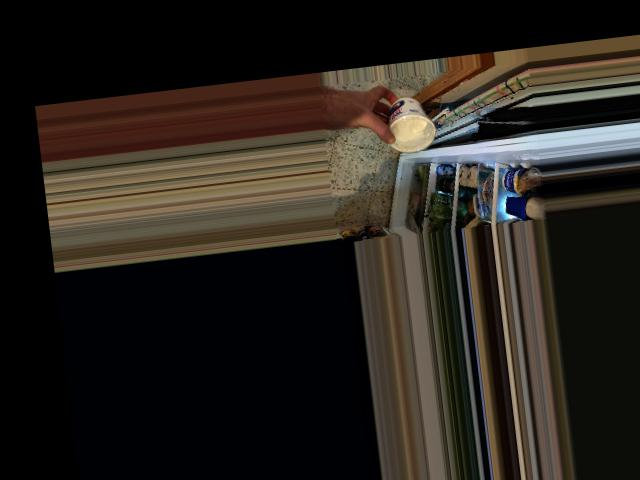cotage: (379, 92, 434, 154)
